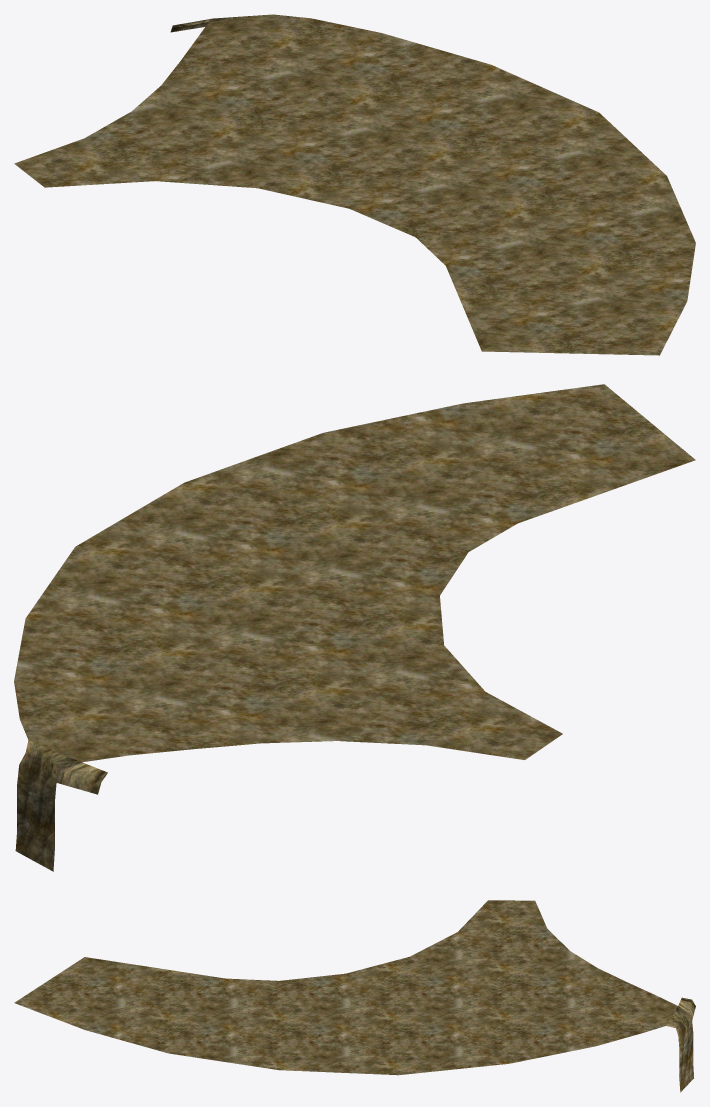
Rendered from RM_PLAYSURFACE_FINAL_MESH07.fbx.
3 views of the same model, one above another, from view 1: azimuth 30°, elevation 25°; view 2: azimuth 150°, elevation 25°; view 3: azimuth 270°, elevation 25° (orthographic). The views are drawn at different scales.
Parts seen in each view (by area): view 1: RM_PLAYSURFACE_FINAL_MESH07; view 2: RM_PLAYSURFACE_FINAL_MESH07; view 3: RM_PLAYSURFACE_FINAL_MESH07.
Part boxes in pixels (x1=…): RM_PLAYSURFACE_FINAL_MESH07: x1=14, y1=14, x2=695, y2=355; RM_PLAYSURFACE_FINAL_MESH07: x1=14, y1=384, x2=695, y2=871; RM_PLAYSURFACE_FINAL_MESH07: x1=14, y1=900, x2=695, y2=1092.
Size of the model in its own units: 255346 by 46410 by 420447.
Materials: 3 (3 with a texture image).
